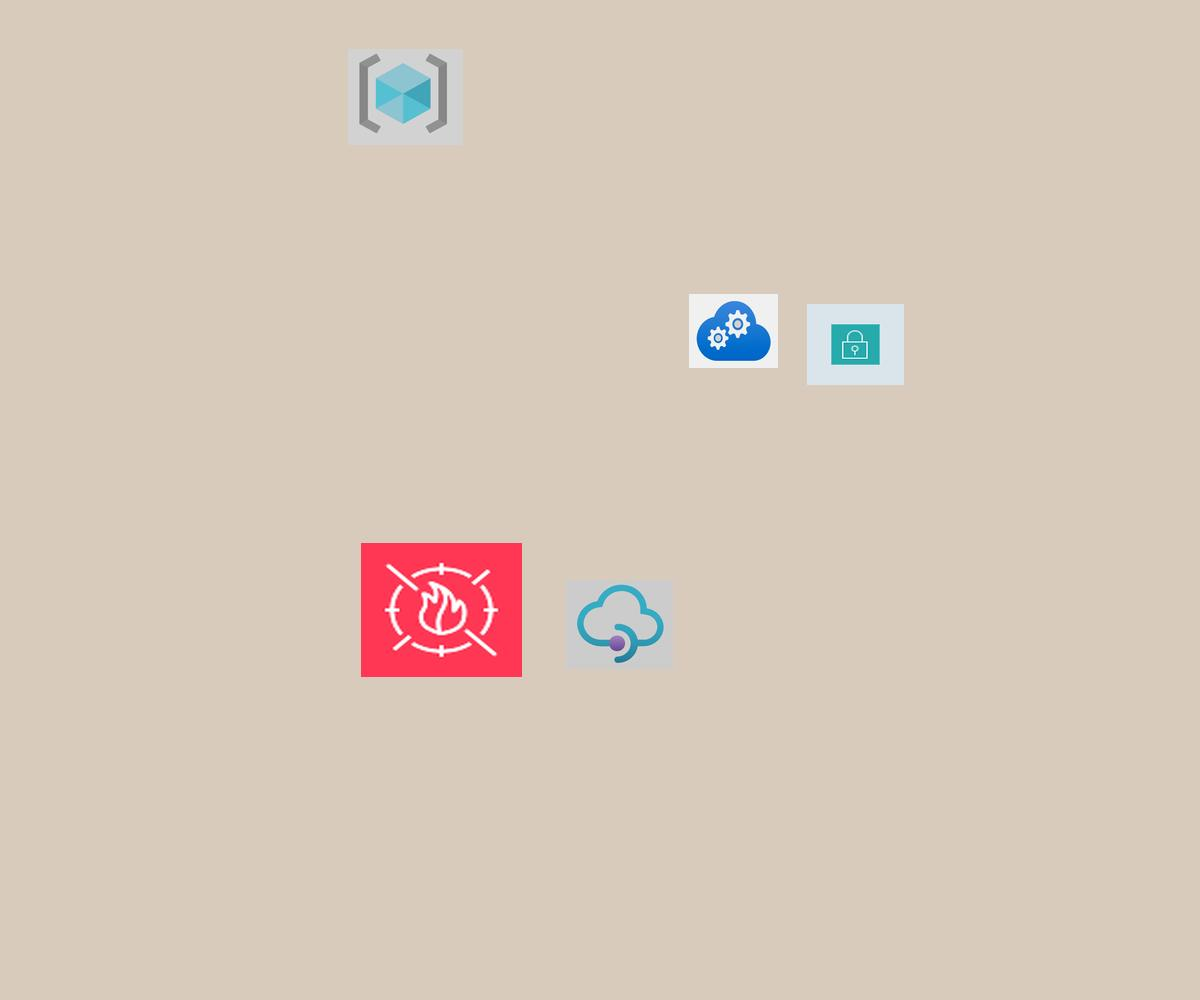AWS-Private-subnet: (807, 304, 904, 385)
AWS-WAF: (361, 543, 522, 677)
Azure_api_gateway: (566, 580, 673, 669)
Azure_cloud_services: (689, 294, 778, 368)
Azure_resource_group: (348, 49, 463, 145)
